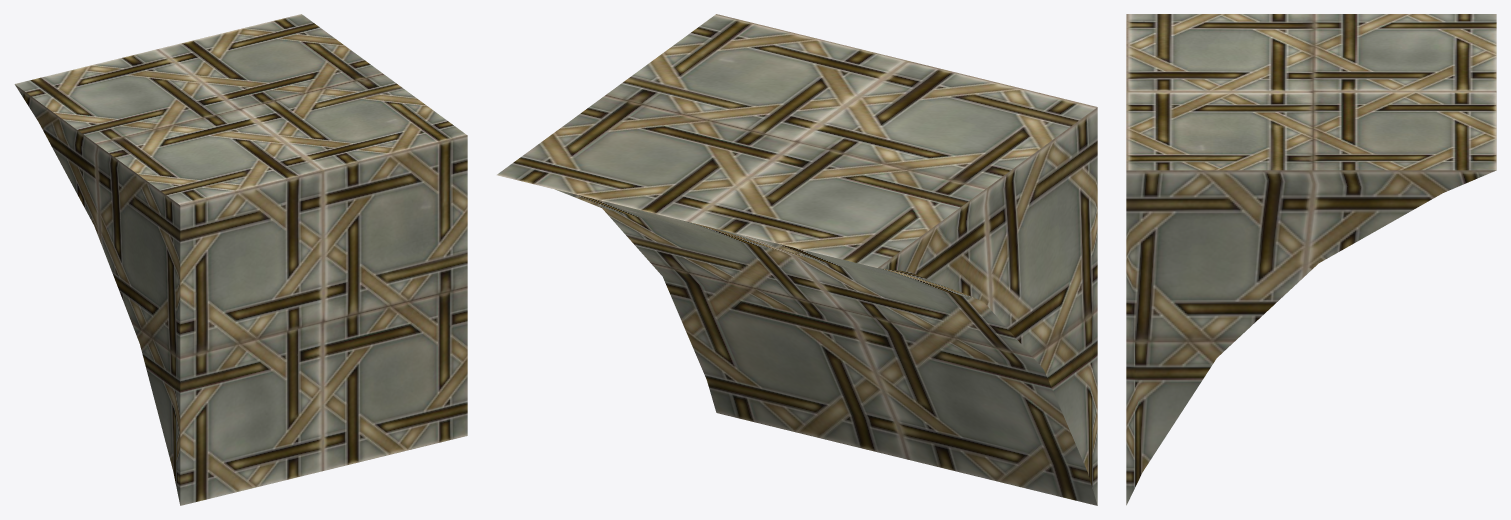
File: POL0310002.fbx
3 views of the same model, side by side, from view 1: azimuth 30°, elevation 25°; view 2: azimuth 150°, elevation 25°; view 3: azimuth 270°, elevation 25° (orthographic). The views are drawn at different scales.
Parts seen in each view (by area): view 1: smPOL0310002; view 2: smPOL0310002; view 3: smPOL0310002.
Boxes of the visible parts, bbox=[...] form: smPOL0310002: bbox=[14, 14, 467, 505]; smPOL0310002: bbox=[497, 14, 1097, 505]; smPOL0310002: bbox=[1126, 14, 1496, 505].
Bounding box in the file's own units: 161 × 161 × 161.
Materials: 1 (1 with a texture image).
